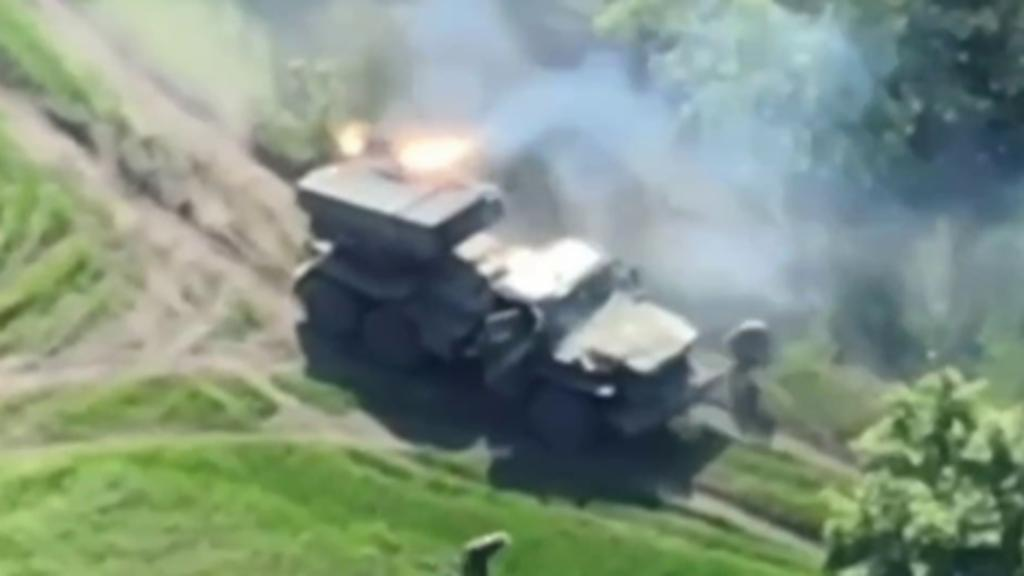MLRS: (290, 134, 710, 445)
